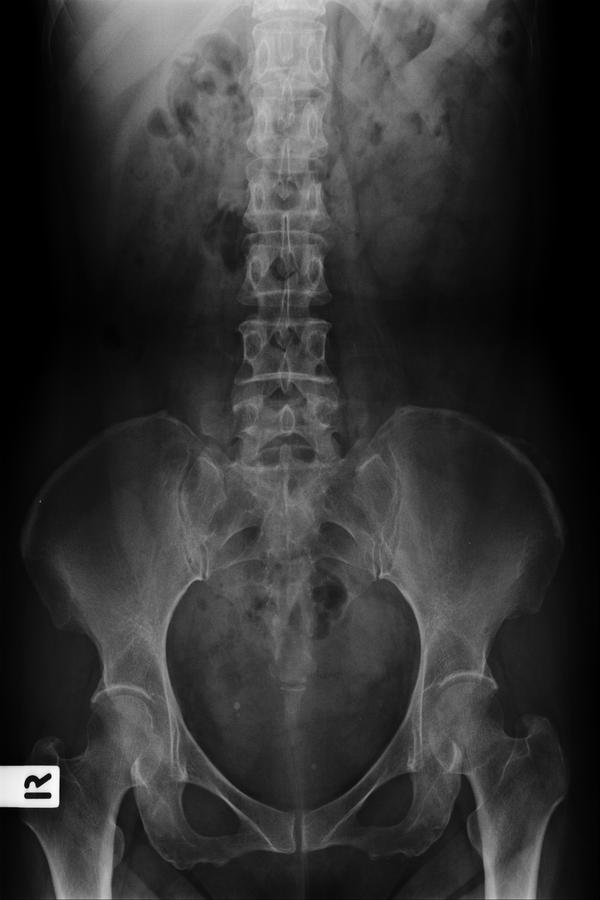not lumbar scoliosis: (232, 128, 344, 471)
